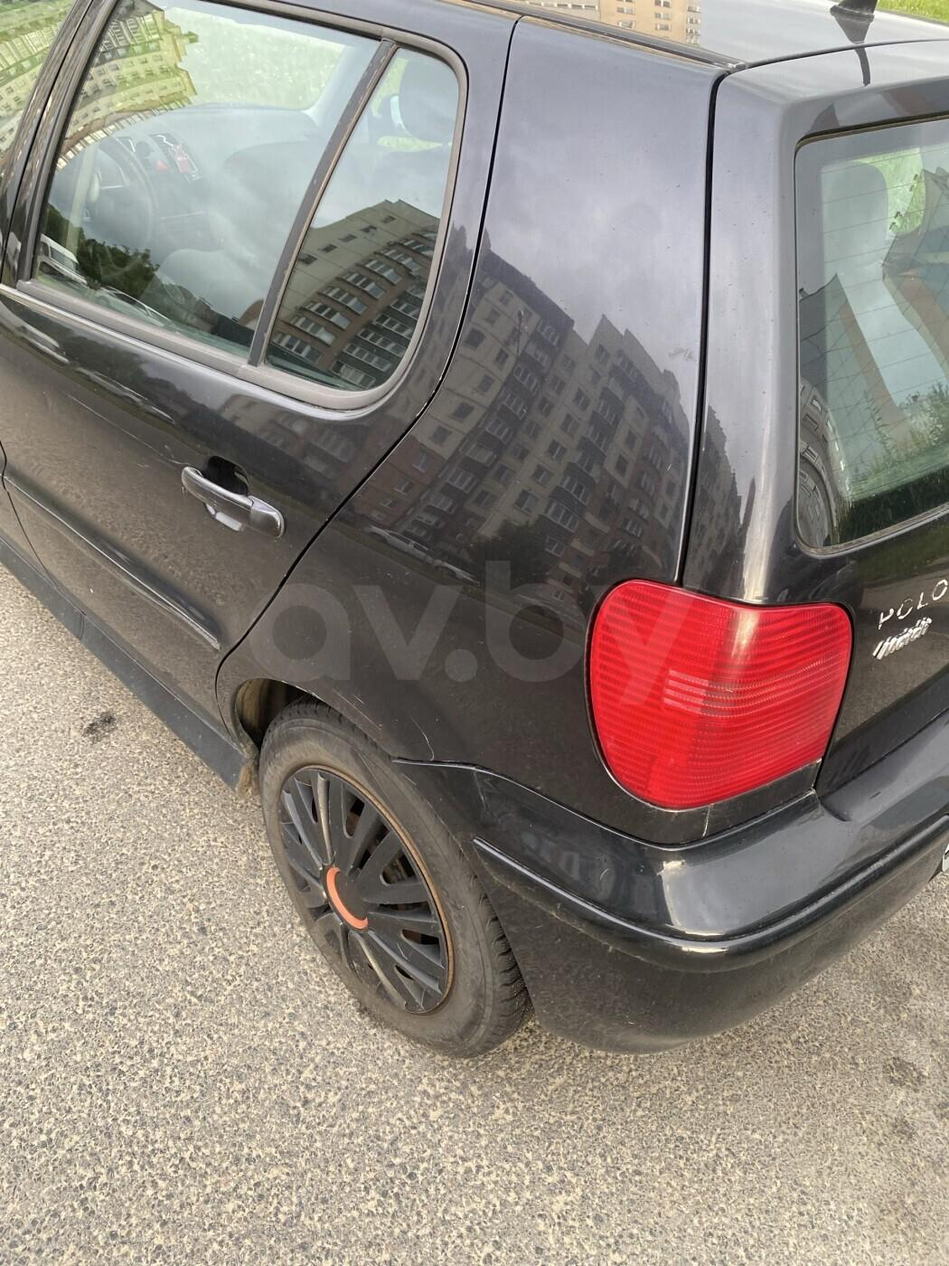Polo_2000-2002: (0, 0, 949, 1087)
